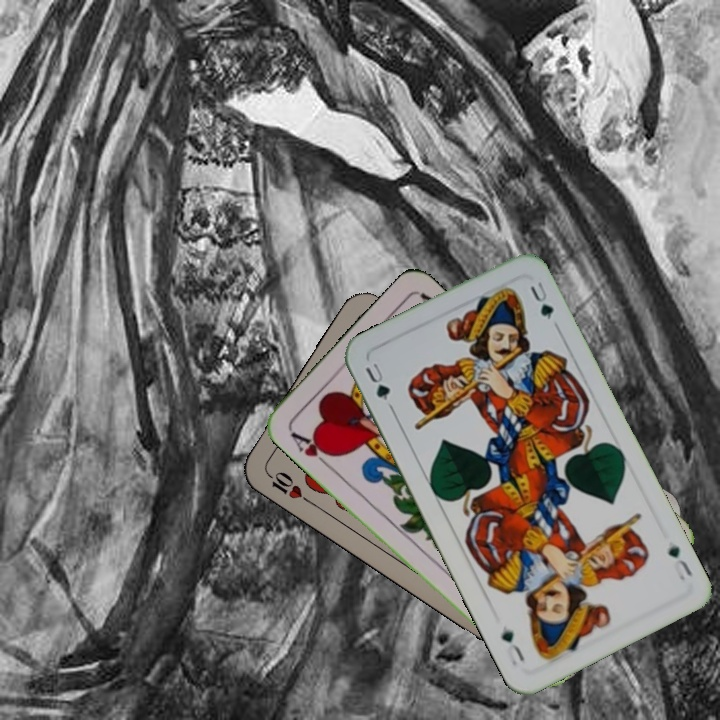GU: (361, 358, 393, 404), (664, 542, 695, 583)
H10: (261, 466, 314, 506)
HA: (286, 428, 338, 471)
